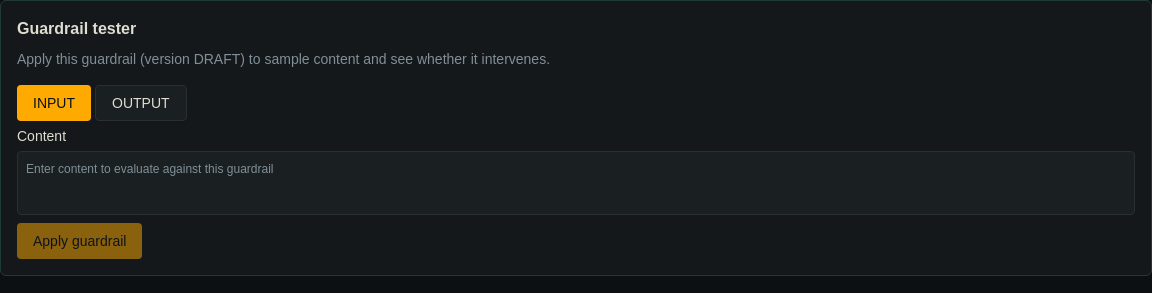
it: GuardrailTester › disables submit until content is entered
Expected: the button "Apply guardrail" is disabled, [17, 223, 142, 259]
Type "hello" into the text box labelled "Content".
click(576, 183); type("hello")  # box [17, 151, 1135, 215]
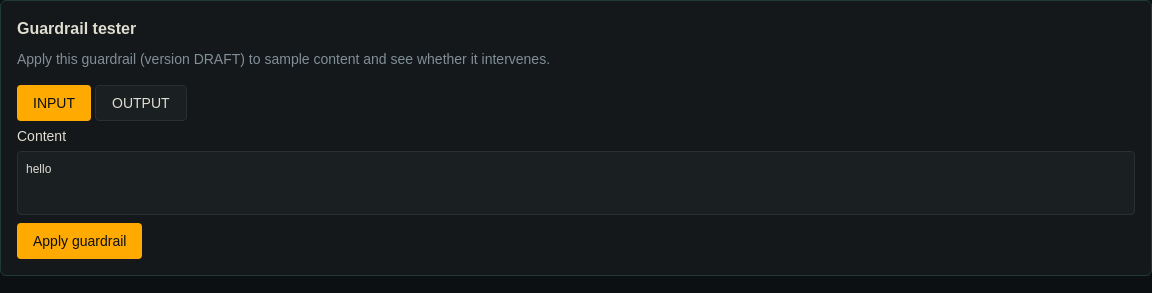
Expected: the button "Apply guardrail" is enabled, [17, 223, 142, 259]
